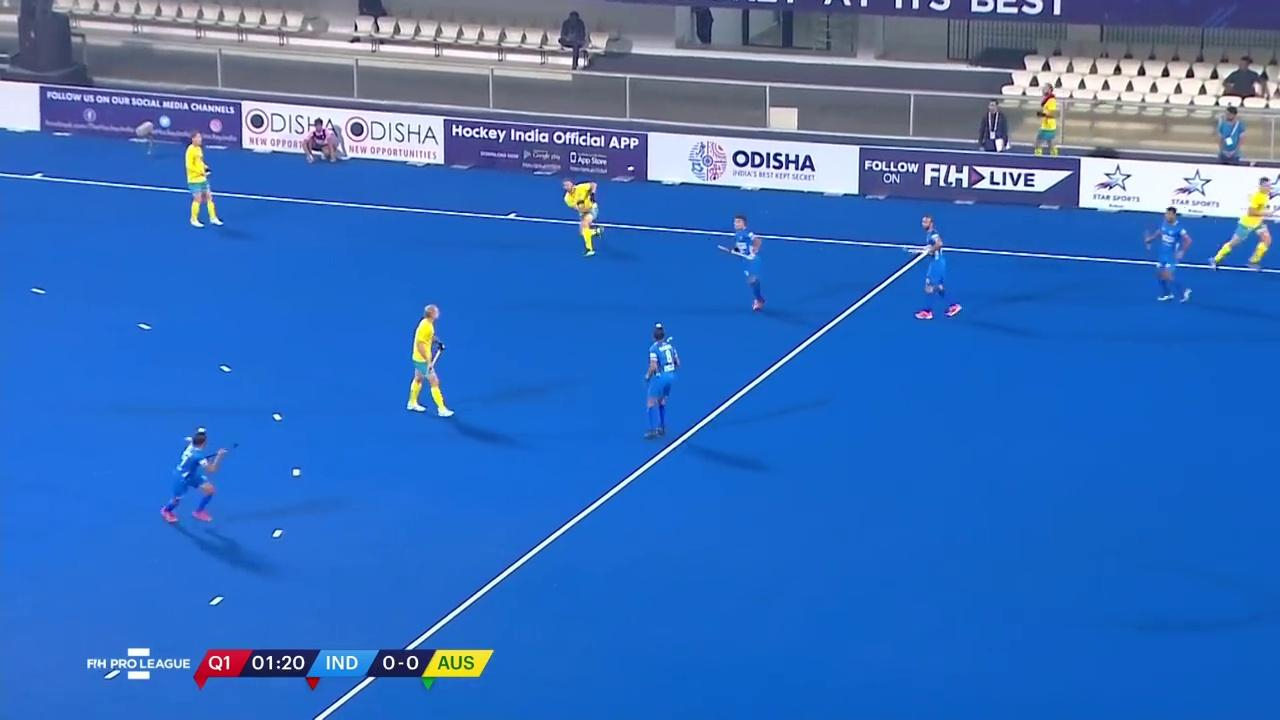ball: (624, 165, 637, 175)
